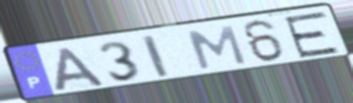3: (98, 40, 143, 83)
6: (241, 18, 287, 64)
A: (53, 46, 109, 93)
E: (281, 9, 342, 60)
I: (139, 33, 173, 79)
M: (185, 24, 250, 71)
